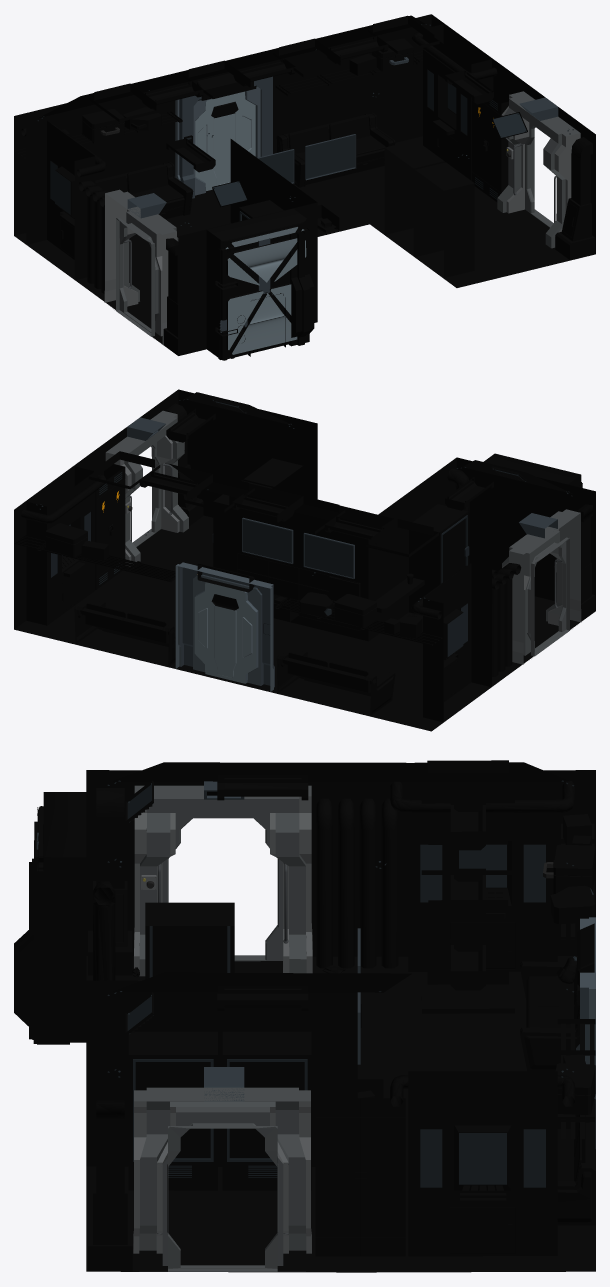
File: ROOMx2_3.fbx
The picture shows the model from 3 angles, top to bottom: view 1: azimuth 30°, elevation 25°; view 2: azimuth 150°, elevation 25°; view 3: azimuth 270°, elevation 25°; orthographic projection. The views are drawn at different scales.
Parts seen in each view (by area): view 1: Main.014, ROOMx2_3, Cube.032, terminal, OptionEVENTgenerator.004, OptionEVENTKEYCARD.004, terminal.010, terminal.003, divan.003, terminal.009, truba.003, truba.004 (+22 smaller); view 2: Main.014, ROOMx2_3, Cube.032, terminal, terminal.003, OptionEmpty.002, terminal.005, terminal.001, divan.001, divan.003, truba.003, truba.001 (+19 smaller); view 3: Main.014, ROOMx2_3, terminal.003, terminal, truba.003, truba.001, OptionEVENTAIDKIT.004, terminal.010, terminal.009, terminal.005, truba.004, divan.001 (+21 smaller).
Part boxes in pixels (left/top/right/bottom): Main.014: left=14, top=14, right=595, bottom=355; ROOMx2_3: left=104, top=91, right=580, bottom=344; Cube.032: left=175, top=73, right=272, bottom=198; terminal: left=26, top=121, right=95, bottom=280; OptionEVENTgenerator.004: left=221, top=203, right=317, bottom=360; OptionEVENTKEYCARD.004: left=178, top=203, right=317, bottom=357; terminal.010: left=415, top=162, right=474, bottom=277; terminal.003: left=423, top=24, right=491, bottom=180; divan.003: left=276, top=112, right=395, bottom=187; terminal.009: left=384, top=140, right=444, bottom=255; truba.003: left=472, top=77, right=508, bottom=202; truba.004: left=555, top=137, right=595, bottom=259; Main.014: left=14, top=389, right=595, bottom=731; ROOMx2_3: left=105, top=410, right=581, bottom=664; Cube.032: left=175, top=562, right=274, bottom=691; terminal: left=423, top=563, right=491, bottom=722; terminal.003: left=26, top=466, right=95, bottom=625; OptionEmpty.002: left=456, top=457, right=595, bottom=600; terminal.005: left=409, top=504, right=469, bottom=614; terminal.001: left=275, top=592, right=442, bottom=645; divan.001: left=276, top=650, right=395, bottom=715; divan.003: left=74, top=601, right=175, bottom=666; truba.003: left=95, top=461, right=125, bottom=589; truba.001: left=492, top=563, right=521, bottom=676; Main.014: left=86, top=760, right=595, bottom=1272; ROOMx2_3: left=133, top=785, right=312, bottom=1271; terminal.003: left=408, top=1071, right=557, bottom=1256; terminal: left=408, top=787, right=557, bottom=971; truba.003: left=315, top=1098, right=405, bottom=1256; truba.001: left=316, top=798, right=398, bottom=968; OptionEVENTAIDKIT.004: left=38, top=792, right=86, bottom=1042; terminal.010: left=128, top=1031, right=217, bottom=1190; terminal.009: left=222, top=1031, right=311, bottom=1190; terminal.005: left=145, top=902, right=234, bottom=979; truba.004: left=88, top=1100, right=132, bottom=1271; divan.001: left=520, top=957, right=579, bottom=1071.
Bounding box in the file's own units: 10.03 × 3.51 × 7.79.
